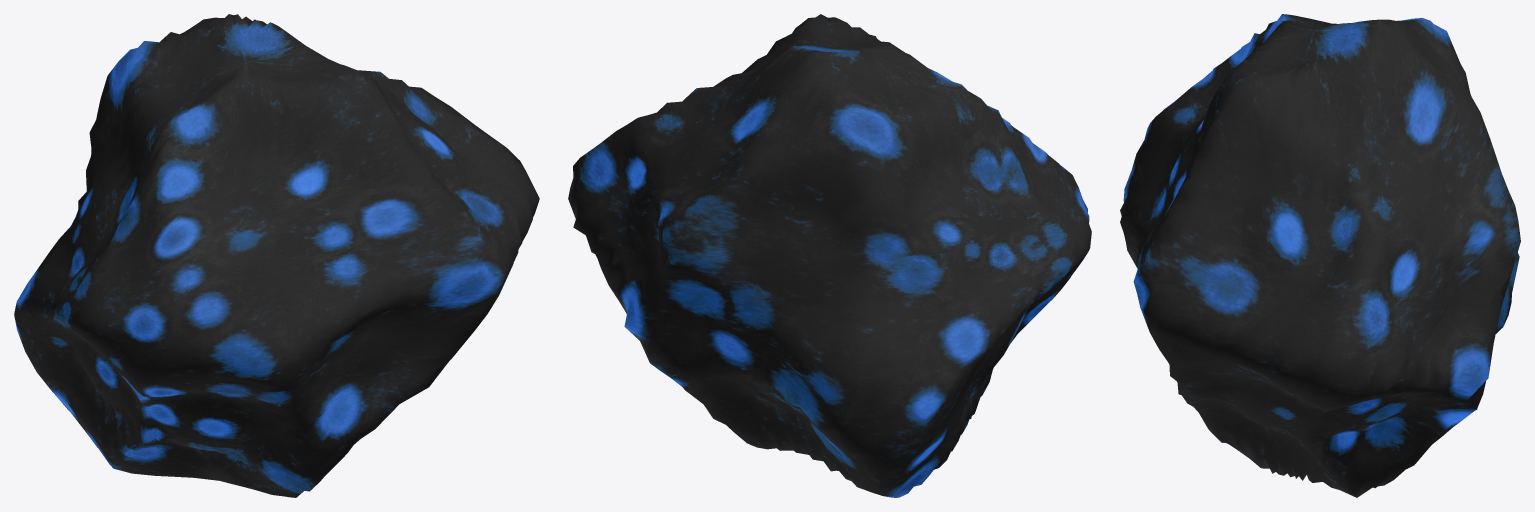
Rendered from asteroide4.glb.
3 renders of one model, left to right at view 1: azimuth 30°, elevation 25°; view 2: azimuth 150°, elevation 25°; view 3: azimuth 270°, elevation 25°, orthographic. The views are drawn at different scales.
Parts seen in each view (by area): view 1: Asteroid_4; view 2: Asteroid_4; view 3: Asteroid_4.
Boxes of the visible parts, <box> form: Asteroid_4: <box>14,14,539,497</box>; Asteroid_4: <box>568,14,1091,497</box>; Asteroid_4: <box>1120,14,1520,497</box>.
Size of the model in its own units: 10.9 by 9.44 by 7.63.
Materials: 1 (1 with a texture image).
